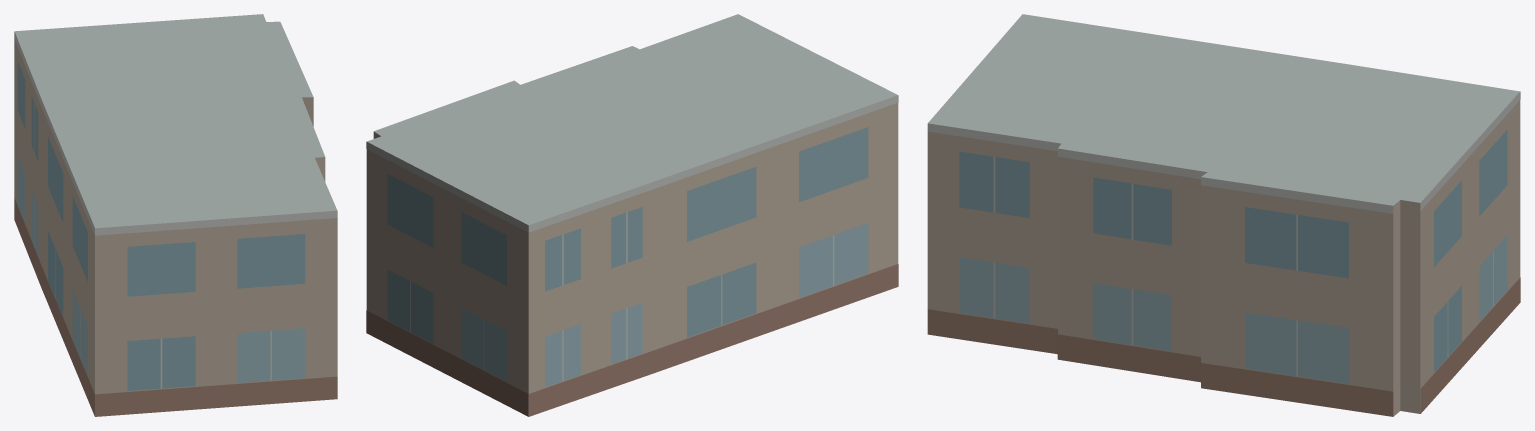
The model's file is survey-upis-32631718.glb.
3 views of the same model, side by side, from view 1: azimuth 30°, elevation 25°; view 2: azimuth 150°, elevation 25°; view 3: azimuth 270°, elevation 25° (orthographic). The views are drawn at different scales.
Parts seen in each view (by area): view 1: survey-upis-32631718.tmp; view 2: survey-upis-32631718.tmp; view 3: survey-upis-32631718.tmp.
Boxes of the visible parts, x1,y1,x2,y2 form: survey-upis-32631718.tmp: (14,14,337,416); survey-upis-32631718.tmp: (366,14,898,416); survey-upis-32631718.tmp: (927,14,1520,416).
Size of the model in its own units: 12.28 by 6.3 by 16.04.
